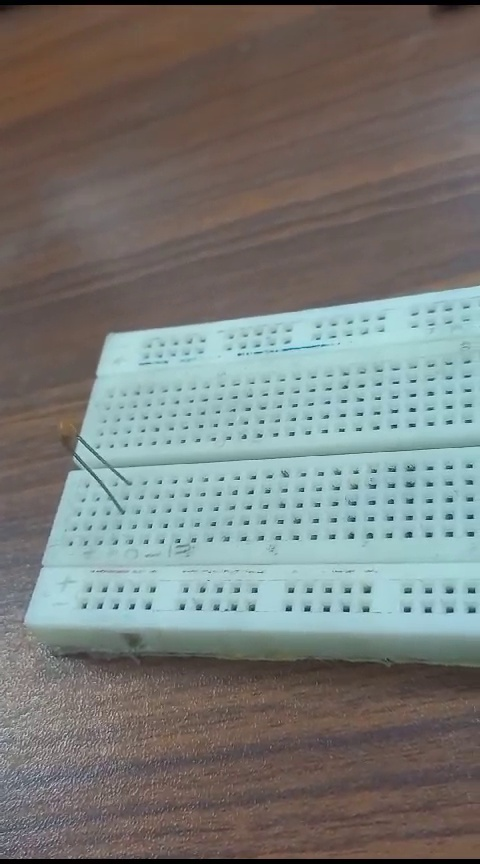ceramic capacitor: (42, 415, 178, 533)
